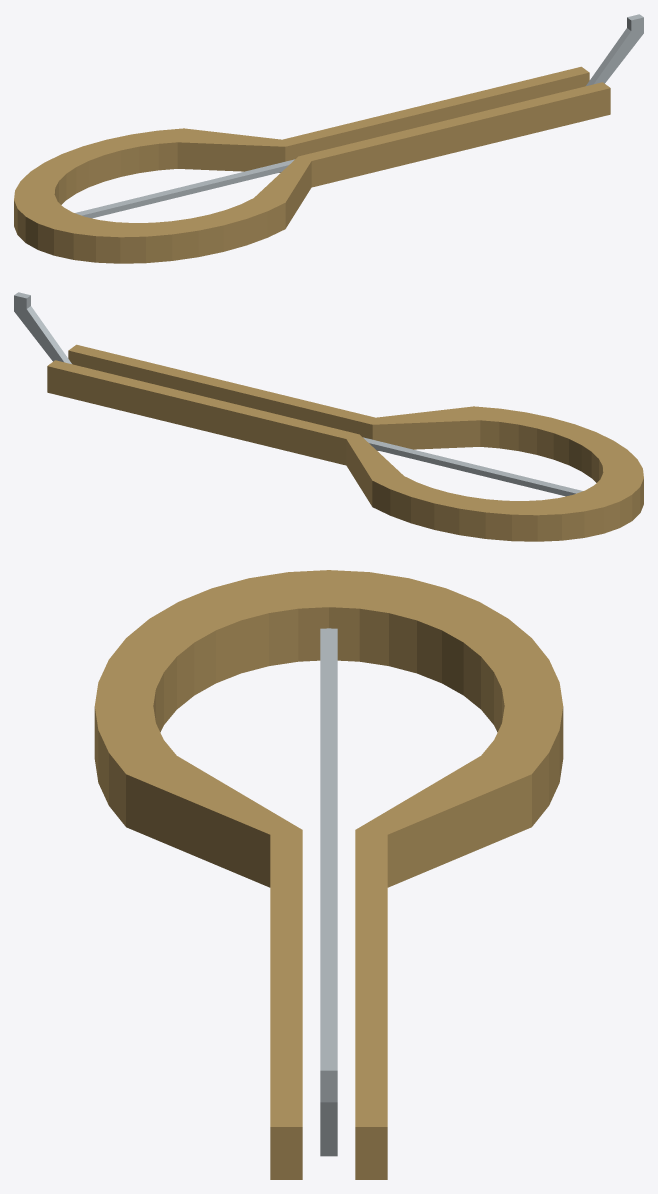
The picture shows the model from 3 angles, top to bottom: view 1: azimuth 30°, elevation 25°; view 2: azimuth 150°, elevation 25°; view 3: azimuth 270°, elevation 25°; orthographic projection. The views are drawn at different scales.
Visible parts, largest first — view 1: WholeGroundFootRoundedReturnAndTwinFrontArms, WholeRearRootedTongueAndRaisedPluckingTip; view 2: WholeGroundFootRoundedReturnAndTwinFrontArms, WholeRearRootedTongueAndRaisedPluckingTip; view 3: WholeGroundFootRoundedReturnAndTwinFrontArms, WholeRearRootedTongueAndRaisedPluckingTip.
Boxes of the visible parts, x1,y1,x2,y2 form: WholeGroundFootRoundedReturnAndTwinFrontArms: (14, 66, 610, 263); WholeRearRootedTongueAndRaisedPluckingTip: (75, 14, 643, 218); WholeGroundFootRoundedReturnAndTwinFrontArms: (47, 344, 643, 541); WholeRearRootedTongueAndRaisedPluckingTip: (14, 292, 582, 496); WholeGroundFootRoundedReturnAndTwinFrontArms: (94, 570, 563, 1179); WholeRearRootedTongueAndRaisedPluckingTip: (320, 628, 337, 1156).
Size of the model in its own units: 0.243 by 0.029 by 0.08.
